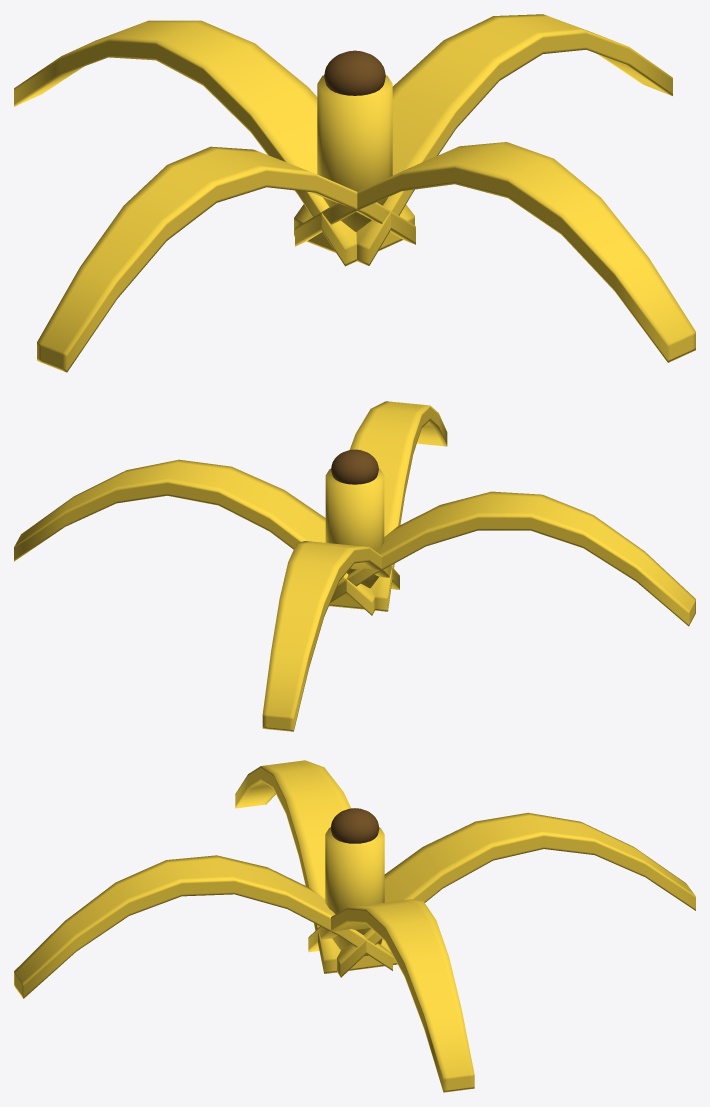
The model's file is Trash_BananaPeel.fbx.
The picture shows the model from 3 angles, top to bottom: view 1: azimuth 30°, elevation 25°; view 2: azimuth 150°, elevation 25°; view 3: azimuth 270°, elevation 25°; orthographic projection. The views are drawn at different scales.
Visible parts, largest first — view 1: Trash_BananaPeel; view 2: Trash_BananaPeel; view 3: Trash_BananaPeel.
Boxes of the visible parts, bbox=[...] form: Trash_BananaPeel: bbox=[14, 14, 695, 372]; Trash_BananaPeel: bbox=[14, 401, 695, 731]; Trash_BananaPeel: bbox=[14, 760, 695, 1092].
Bounding box in the file's own units: 0.5039 × 0.12 × 0.5039.
